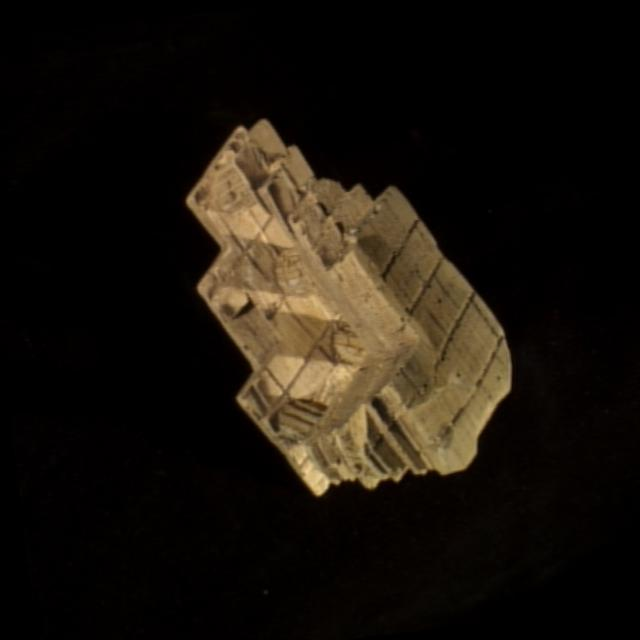Instance-Segmentation: (186, 120, 509, 494)
